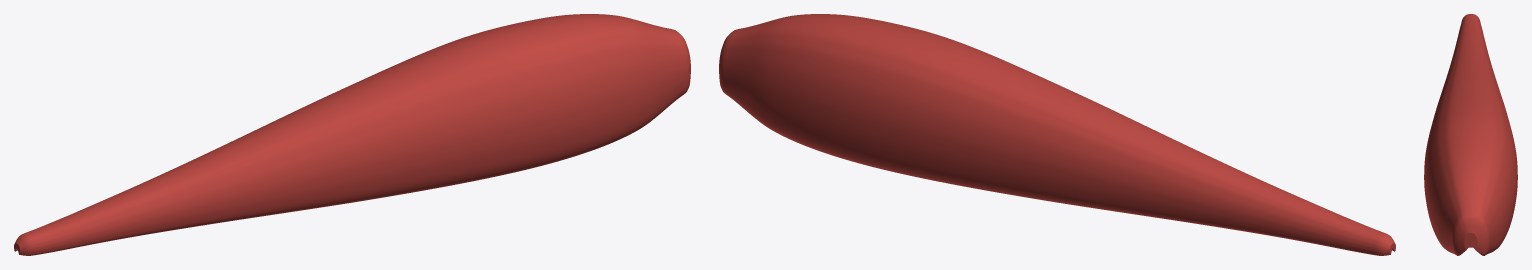
The model's file is chopper_5.glb.
3 renders of one model, left to right at view 1: azimuth 30°, elevation 25°; view 2: azimuth 150°, elevation 25°; view 3: azimuth 270°, elevation 25°, orthographic. The views are drawn at different scales.
Visible parts, largest first — view 1: chopper_5; view 2: chopper_5; view 3: chopper_5.
Boxes of the visible parts, <box> form: chopper_5: <box>14,14,690,255</box>; chopper_5: <box>719,14,1395,255</box>; chopper_5: <box>1424,14,1517,255</box>.
Bounding box in the file's own units: 1.06 × 0.1763 × 0.1751.
